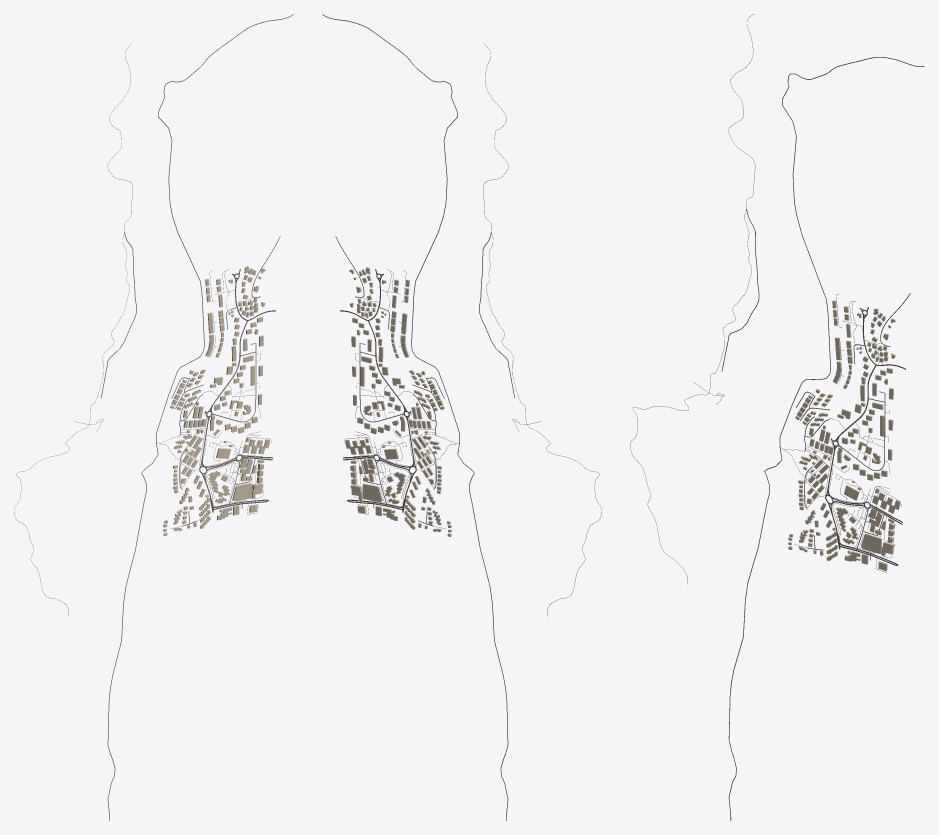
File: historic-palestine-14_38_3556_3321.glb
3 views of the same model, side by side, from view 1: azimuth 30°, elevation 25°; view 2: azimuth 150°, elevation 25°; view 3: azimuth 330°, elevation 25° (orthographic). The views are drawn at different scales.
Parts seen in each view (by area): view 1: Road דרך המערכת, Road .008; view 2: Road דרך המערכת, Road .008; view 3: Road דרך המערכת, Road .008.
Boxes of the visible parts, left/top/right/bottom form: Road דרך המערכת: left=107, top=14, right=293, bottom=820; Road .008: left=14, top=44, right=132, bottom=616; Road דרך המערכת: left=322, top=14, right=508, bottom=820; Road .008: left=483, top=44, right=601, bottom=616; Road דרך המערכת: left=728, top=57, right=924, bottom=820; Road .008: left=630, top=14, right=755, bottom=584.
Bounding box in the file's own units: 1329 × 3503 × 16.7.
